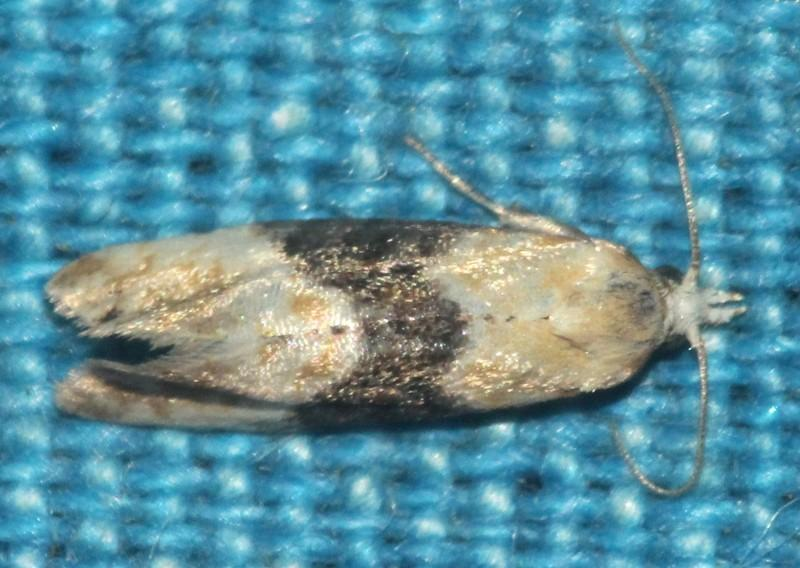Eupoecilia Ambiguella: (42, 19, 748, 499)
